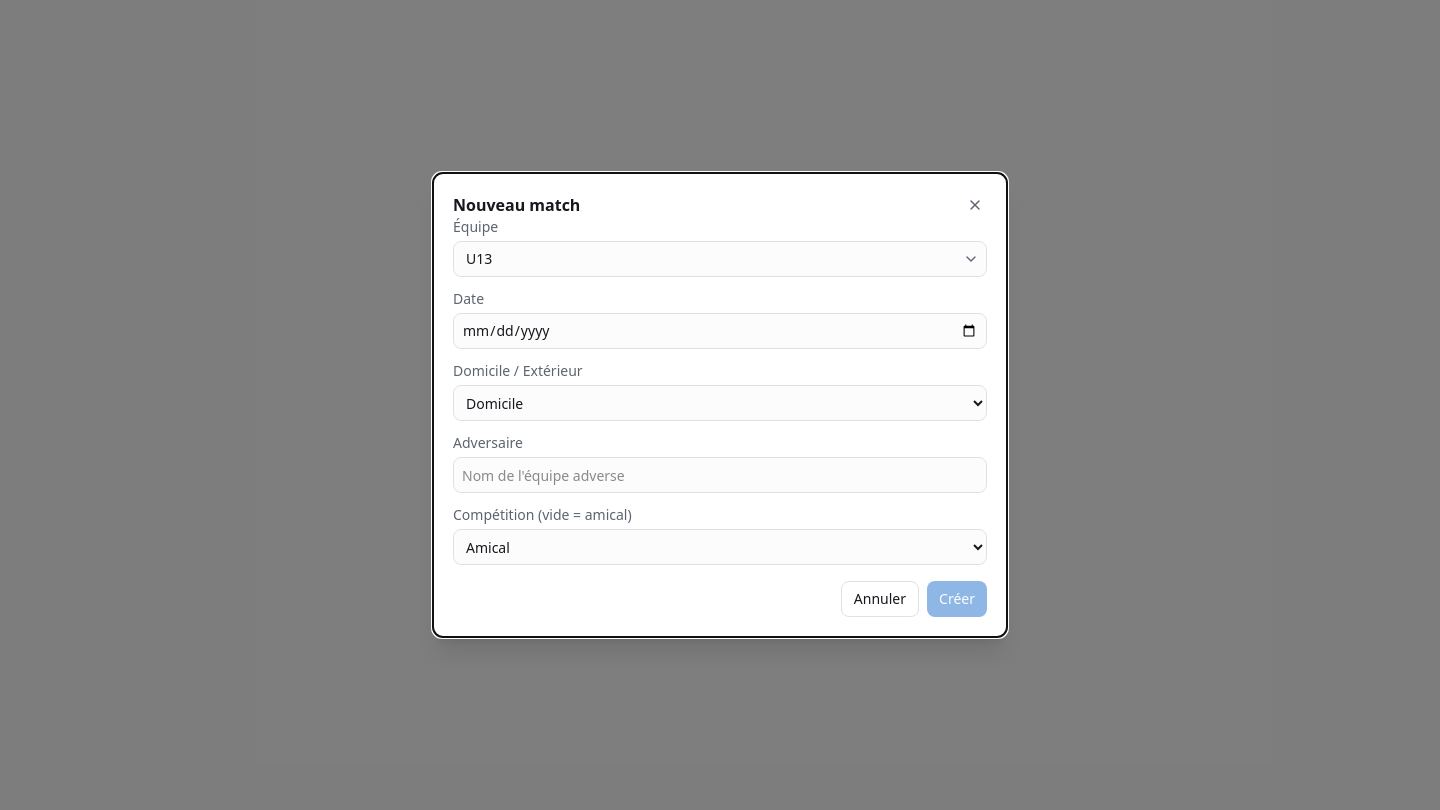
Test: FixtureFormDialog › keeps Créer disabled until the required fields are filled
expect the button "Créer" is disabled: met, box [927,581,987,617]
Type "2026-11-01" into the date field labelled "Date" at [720, 331], box [453,313,987,349]
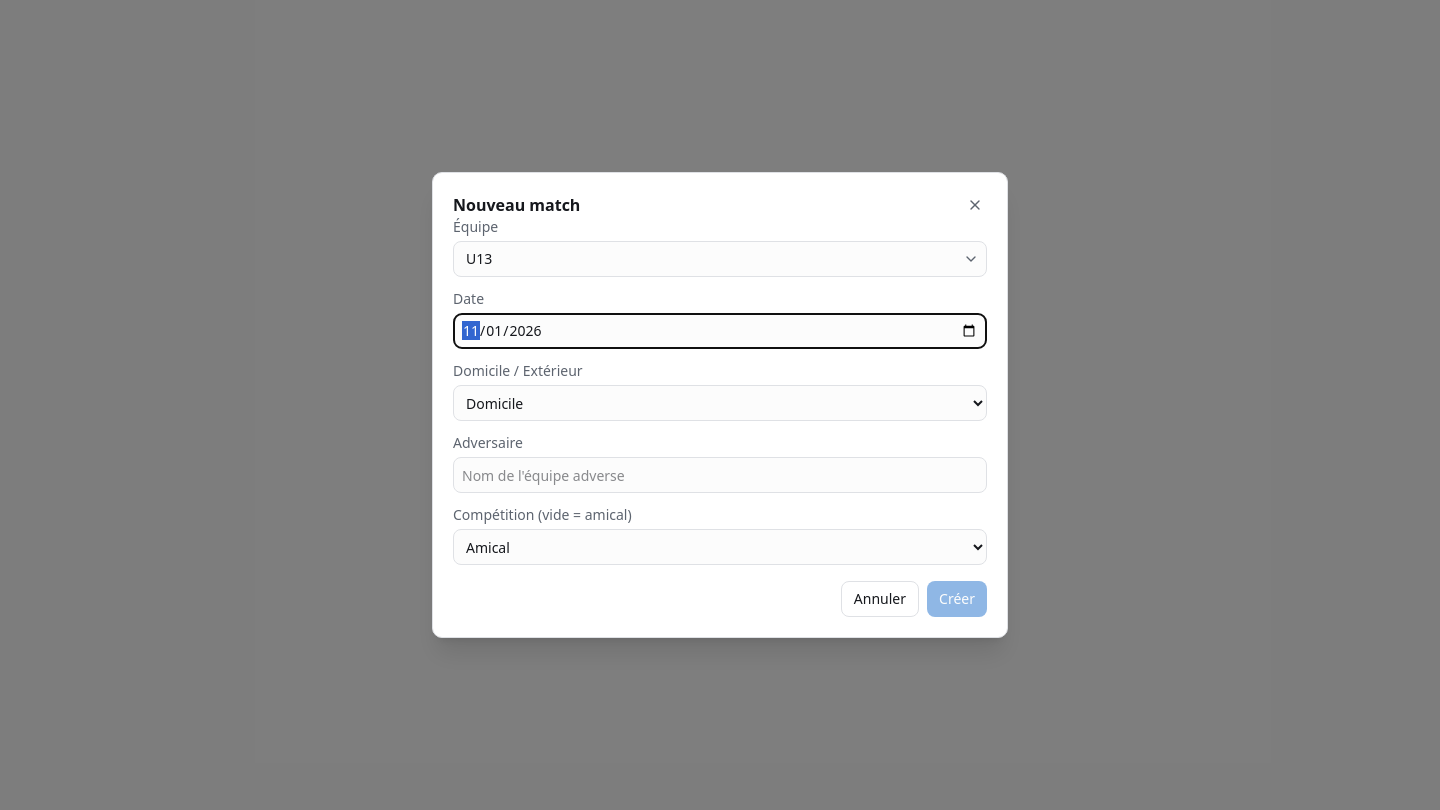
Type "Amis" into the field labelled "Adversaire" at [720, 475], box [453,457,987,493]
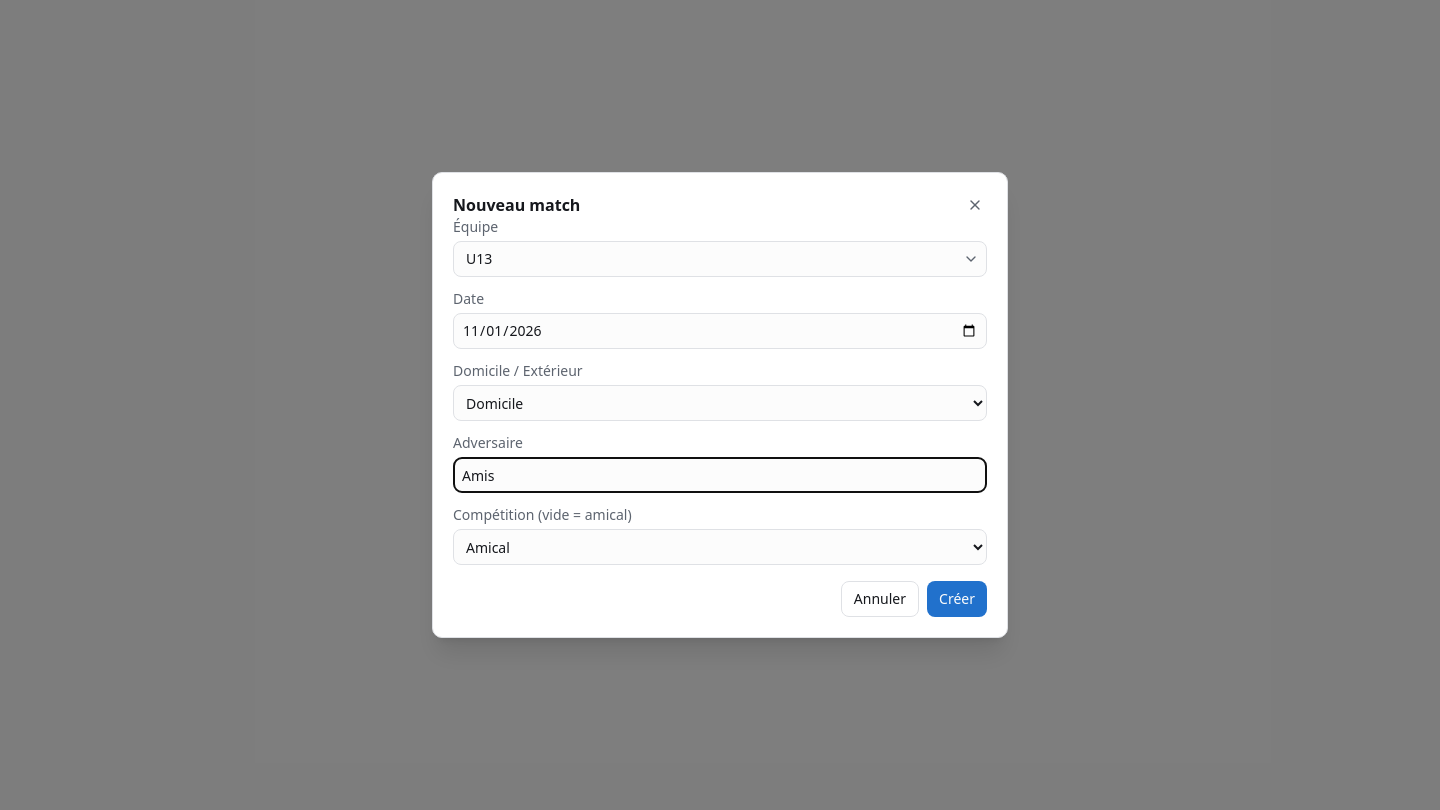
expect the button "Créer" is enabled: met, box [927,581,987,617]
